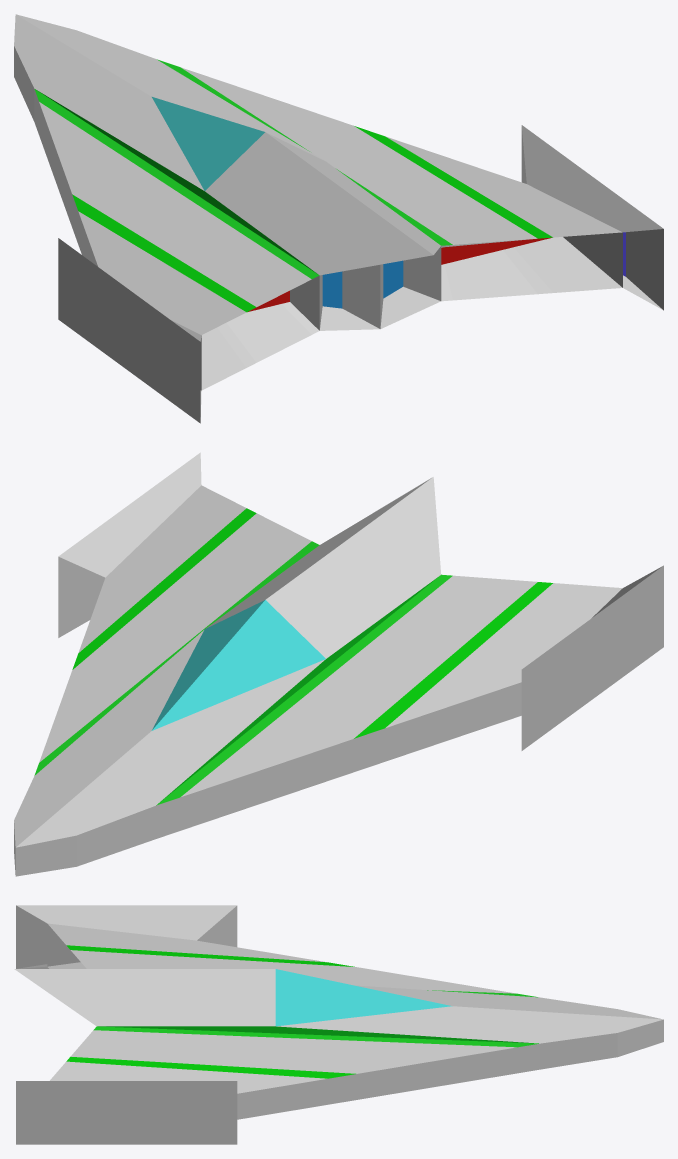
The model's file is SpaceShip2.3.fbx.
3 views of the same model, one above another, from view 1: azimuth 30°, elevation 25°; view 2: azimuth 150°, elevation 25°; view 3: azimuth 270°, elevation 25° (orthographic). The views are drawn at different scales.
Visible parts, largest first — view 1: Cube; view 2: Cube; view 3: Cube.
Part boxes in pixels (x1,y1,x2,y2): Cube: (14, 14, 663, 423); Cube: (14, 452, 663, 876); Cube: (14, 905, 663, 1144).
Bounding box in the file's own units: 465 × 108 × 727.
